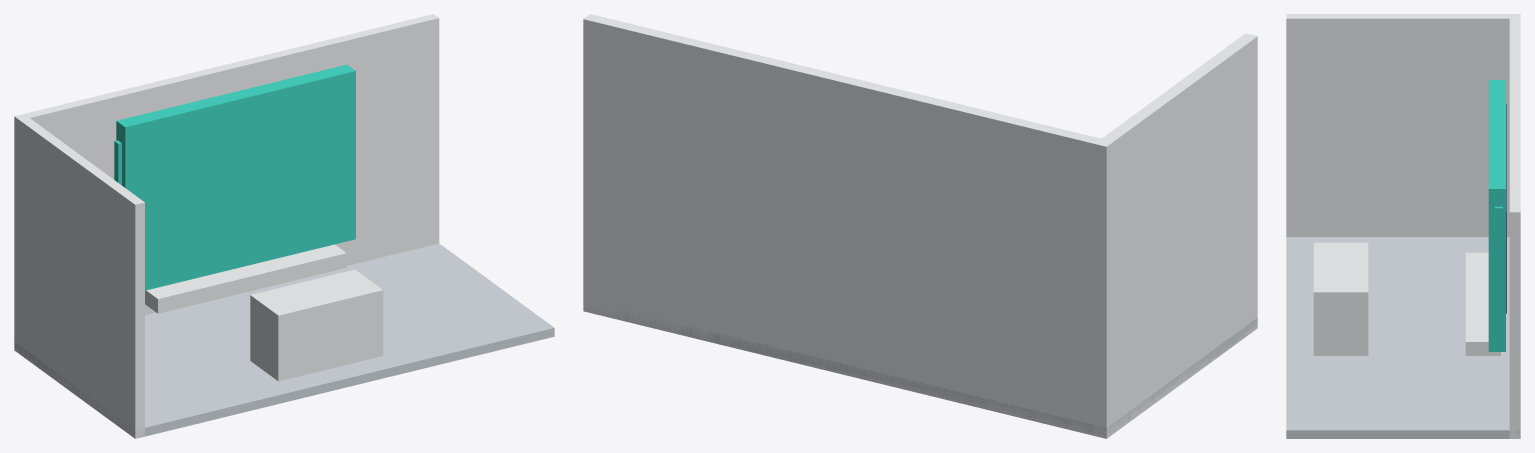
3 renders of one model, left to right at view 1: azimuth 30°, elevation 25°; view 2: azimuth 150°, elevation 25°; view 3: azimuth 270°, elevation 25°, orthographic. The views are drawn at different scales.
Parts seen in each view (by area): view 1: Exhibition Booth Concept; view 2: Exhibition Booth Concept; view 3: Exhibition Booth Concept.
Boxes of the visible parts, x1=… form: Exhibition Booth Concept: x1=14, y1=14, x2=554, y2=438; Exhibition Booth Concept: x1=583, y1=14, x2=1257, y2=438; Exhibition Booth Concept: x1=1286, y1=14, x2=1520, y2=438.
Size of the model in its own units: 6 by 3.2 by 3.
